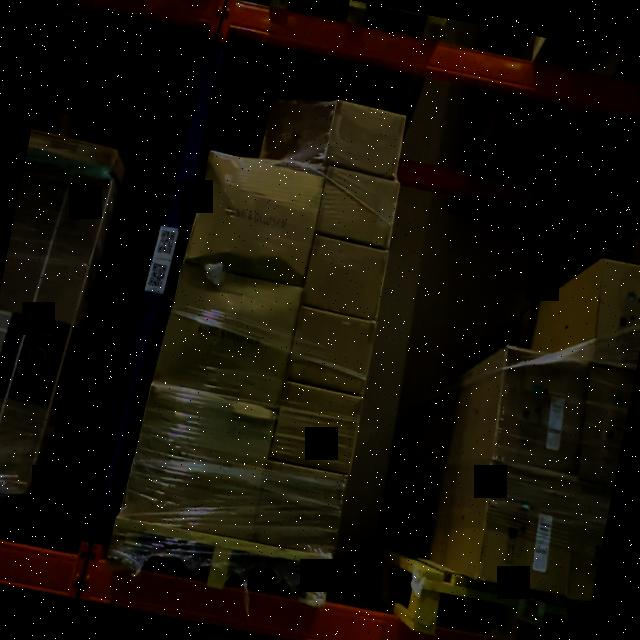box: (123, 386, 277, 541), (157, 267, 300, 405), (188, 152, 324, 284), (475, 468, 581, 594), (488, 352, 592, 475), (272, 385, 362, 474), (254, 466, 344, 554), (575, 368, 634, 483), (290, 310, 372, 391), (315, 168, 399, 247), (302, 240, 384, 319), (561, 483, 612, 601), (327, 102, 406, 178), (587, 260, 640, 369), (264, 98, 334, 168), (27, 130, 118, 172)
